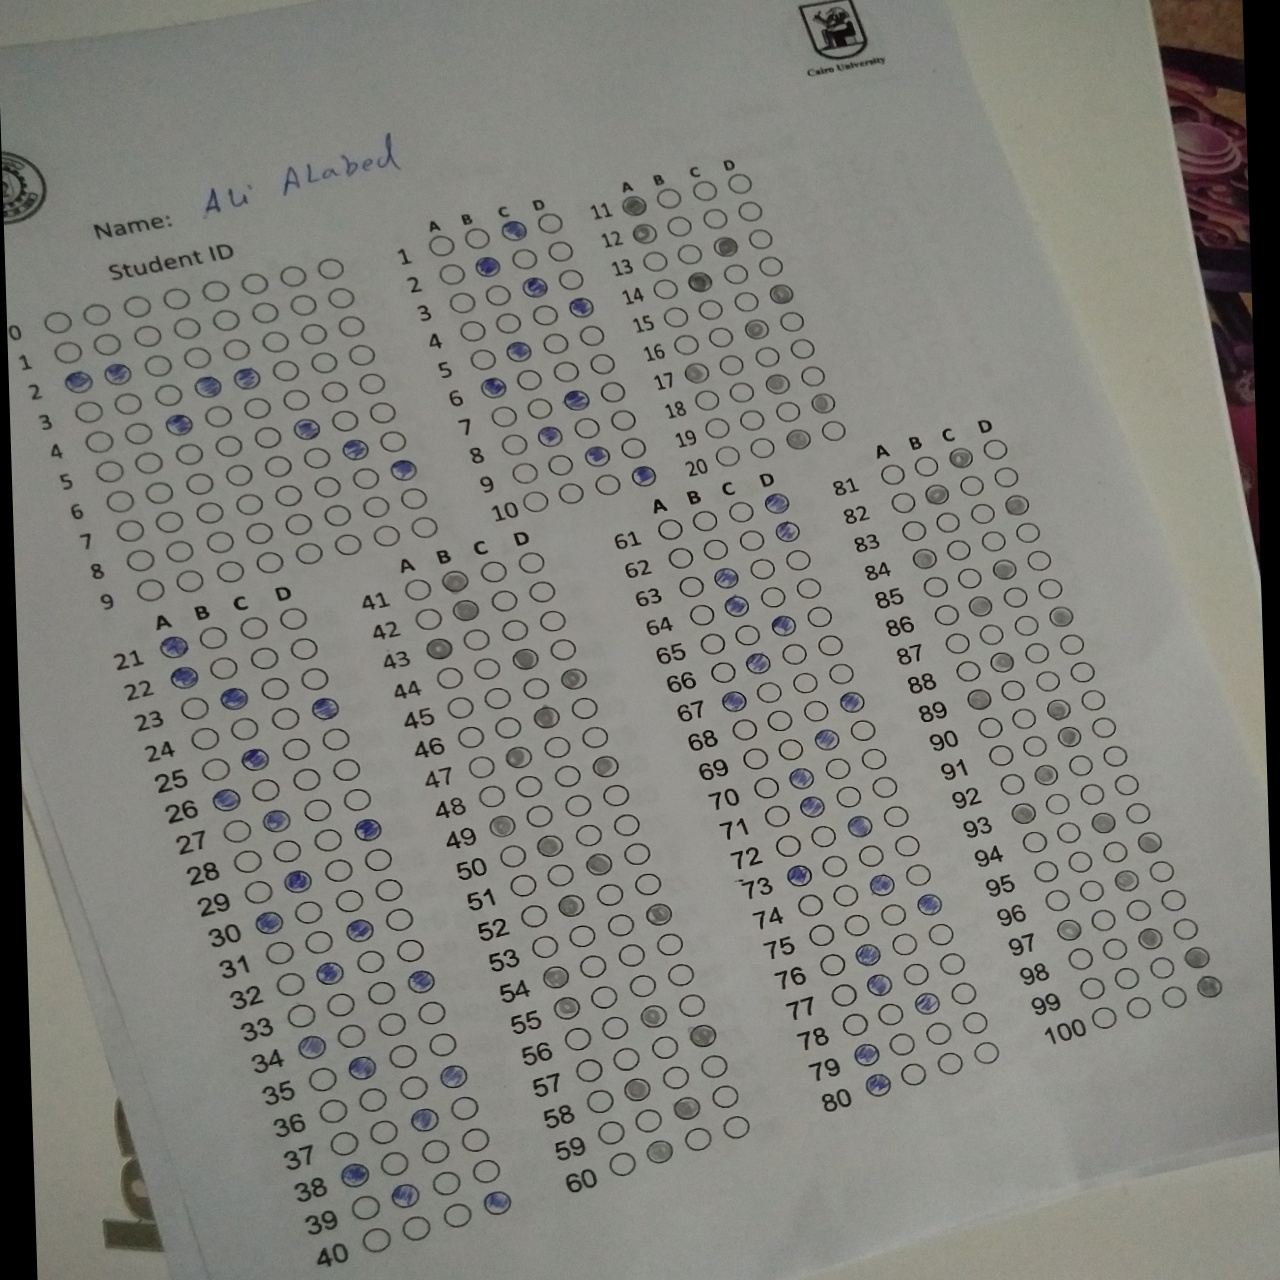not-c: (719, 1111, 754, 1139), (428, 1167, 463, 1196), (355, 1085, 390, 1114), (624, 971, 659, 999), (648, 1033, 683, 1061), (659, 1063, 694, 1091), (697, 1051, 733, 1080), (594, 1117, 628, 1145), (348, 1193, 382, 1221), (366, 1117, 400, 1145), (597, 1012, 631, 1040), (653, 930, 687, 958), (629, 1107, 665, 1133), (470, 1157, 505, 1184), (458, 1125, 493, 1152), (376, 1150, 411, 1177), (326, 1130, 361, 1157), (395, 1074, 430, 1101), (315, 1098, 350, 1125), (305, 1065, 340, 1092), (413, 999, 448, 1026), (333, 1022, 368, 1049), (363, 979, 399, 1006), (322, 990, 358, 1017), (674, 992, 709, 1019), (561, 1024, 595, 1051), (682, 1125, 716, 1152), (602, 1149, 636, 1176), (516, 903, 550, 930), (440, 1201, 474, 1228), (383, 1043, 417, 1070), (374, 1012, 408, 1039), (663, 961, 697, 988), (571, 1057, 605, 1084), (608, 1044, 642, 1071), (583, 1089, 617, 1116), (592, 881, 626, 908), (745, 772, 779, 799), (921, 1020, 955, 1047), (891, 831, 925, 858), (631, 871, 665, 898), (417, 1138, 452, 1164), (424, 1032, 459, 1057), (888, 931, 924, 956), (566, 922, 598, 951), (704, 324, 737, 350), (181, 345, 213, 372), (230, 847, 263, 874), (1088, 1005, 1121, 1032), (706, 658, 738, 685), (399, 1216, 433, 1241), (360, 1227, 394, 1253), (447, 1095, 481, 1121), (508, 872, 542, 898), (760, 804, 794, 830), (806, 823, 840, 849), (856, 842, 890, 867), (792, 892, 826, 918), (805, 921, 839, 947), (839, 912, 873, 938), (813, 952, 847, 978), (826, 981, 860, 1007), (937, 951, 971, 976), (897, 960, 931, 986), (947, 981, 981, 1007), (958, 1010, 992, 1036), (934, 1050, 968, 1076), (968, 1040, 1002, 1065), (542, 860, 576, 886), (614, 942, 648, 968), (728, 716, 762, 742), (238, 270, 270, 297), (660, 304, 692, 331), (647, 275, 679, 302), (444, 290, 476, 316), (212, 433, 244, 459), (151, 508, 183, 535), (571, 821, 602, 847), (542, 733, 573, 760), (1065, 659, 1097, 686), (1034, 576, 1065, 602), (1022, 546, 1054, 573), (941, 536, 973, 563), (990, 462, 1022, 489), (954, 472, 986, 499), (941, 629, 973, 656), (120, 294, 152, 320), (549, 359, 581, 384), (529, 302, 561, 328), (508, 459, 540, 485), (488, 404, 520, 430), (268, 358, 301, 383), (72, 399, 104, 424), (325, 284, 358, 309), (275, 263, 308, 288), (359, 493, 392, 519), (309, 474, 342, 499), (93, 458, 125, 484), (316, 379, 349, 404), (332, 531, 365, 557), (243, 520, 275, 546), (745, 556, 778, 581), (297, 666, 329, 692), (188, 726, 220, 751), (452, 724, 485, 750), (263, 939, 295, 965), (290, 767, 322, 792), (482, 685, 515, 710), (710, 1082, 743, 1108), (832, 784, 865, 810), (873, 1001, 906, 1027), (858, 745, 891, 771), (496, 843, 529, 869), (930, 602, 962, 628), (1019, 733, 1051, 758), (1017, 829, 1050, 855), (1099, 838, 1132, 864), (1122, 897, 1155, 922), (822, 756, 855, 782), (772, 735, 805, 761), (802, 602, 835, 628), (897, 518, 930, 544), (979, 434, 1012, 459), (908, 451, 941, 477), (527, 933, 561, 958), (771, 833, 805, 858), (818, 852, 852, 877), (830, 881, 864, 906), (839, 1012, 873, 1036), (876, 903, 910, 927), (886, 1032, 920, 1056), (903, 862, 937, 886), (879, 803, 913, 828), (867, 775, 901, 799), (738, 745, 772, 770), (576, 954, 610, 979), (91, 331, 123, 356), (159, 285, 191, 311), (40, 309, 72, 335), (673, 241, 704, 267), (735, 199, 767, 225), (539, 331, 571, 356), (750, 343, 782, 369), (587, 350, 619, 376), (775, 309, 806, 335), (465, 346, 497, 372), (670, 332, 702, 358), (491, 309, 523, 335), (730, 288, 762, 314), (695, 297, 727, 322), (553, 481, 585, 506), (607, 407, 639, 433), (497, 433, 529, 458), (737, 407, 769, 433), (745, 434, 777, 459), (816, 417, 847, 443), (726, 379, 757, 404), (692, 387, 723, 413), (356, 370, 388, 396), (297, 320, 328, 346), (210, 307, 241, 333), (253, 550, 285, 576), (135, 577, 166, 602), (122, 547, 154, 573), (103, 489, 135, 515), (329, 407, 361, 433), (321, 502, 353, 527), (272, 482, 304, 508), (263, 452, 294, 478), (434, 665, 465, 690), (700, 536, 731, 561), (689, 508, 721, 533), (515, 550, 546, 576), (478, 558, 510, 584), (320, 726, 352, 751), (247, 645, 279, 670), (198, 625, 230, 651), (513, 772, 545, 798), (285, 1002, 316, 1028), (274, 971, 306, 996), (394, 938, 425, 964), (372, 877, 403, 903), (292, 899, 324, 925), (361, 847, 393, 873), (271, 838, 302, 864), (341, 787, 373, 812), (280, 736, 312, 762), (567, 695, 599, 721), (537, 608, 568, 634), (1076, 878, 1108, 904), (1121, 801, 1152, 826), (1157, 886, 1189, 912), (1169, 917, 1200, 942), (924, 921, 955, 947), (1010, 612, 1042, 638), (952, 565, 983, 591), (1000, 584, 1032, 610), (953, 659, 985, 685), (1056, 631, 1088, 656), (996, 676, 1028, 702), (1007, 706, 1039, 731), (846, 717, 878, 743), (801, 697, 832, 723), (789, 670, 821, 696), (753, 679, 784, 704), (813, 632, 845, 658), (730, 622, 762, 648), (695, 631, 727, 656), (757, 584, 789, 610), (886, 488, 918, 513), (978, 529, 1009, 554), (966, 501, 998, 526), (877, 461, 908, 486), (79, 302, 111, 327), (406, 515, 438, 539), (699, 206, 731, 231), (652, 186, 685, 211), (638, 248, 670, 273), (482, 284, 515, 308), (459, 225, 492, 250), (536, 211, 568, 236), (618, 435, 651, 459), (595, 380, 628, 404), (345, 342, 377, 367), (113, 518, 145, 543), (141, 481, 173, 505), (121, 421, 154, 445), (475, 783, 508, 808), (663, 545, 696, 570), (236, 615, 268, 640), (1040, 791, 1073, 816), (1148, 858, 1180, 883), (1122, 995, 1155, 1020), (781, 547, 813, 572), (931, 510, 964, 535), (456, 318, 486, 343), (545, 452, 576, 478), (771, 399, 802, 424), (301, 797, 332, 823), (974, 714, 1005, 740), (1110, 771, 1141, 797), (1076, 781, 1107, 806), (1099, 937, 1130, 962), (1111, 965, 1142, 990), (1022, 640, 1053, 666), (314, 256, 346, 280), (224, 462, 256, 486), (130, 324, 162, 348), (50, 340, 82, 365), (198, 278, 230, 302), (722, 170, 754, 195), (719, 263, 750, 287), (435, 261, 467, 286), (553, 268, 585, 293), (544, 239, 576, 264), (425, 234, 457, 259), (519, 489, 551, 513), (712, 444, 743, 469), (796, 363, 828, 388), (787, 335, 818, 360), (525, 395, 557, 420), (154, 382, 185, 407), (334, 313, 366, 338), (259, 329, 291, 354), (143, 353, 175, 377), (286, 293, 318, 318), (248, 299, 280, 324), (170, 315, 202, 340), (300, 445, 332, 470), (251, 424, 282, 449), (172, 442, 204, 467), (397, 486, 429, 511), (349, 467, 381, 491), (377, 428, 409, 452), (367, 401, 399, 425), (280, 387, 312, 411), (241, 396, 273, 421), (200, 403, 232, 428), (83, 429, 115, 454), (293, 542, 325, 566), (282, 511, 314, 536), (203, 530, 234, 554), (370, 524, 402, 549), (233, 490, 265, 515), (195, 501, 226, 525), (183, 471, 215, 496), (212, 558, 244, 583), (498, 617, 530, 641), (675, 574, 707, 599), (488, 588, 519, 613), (411, 606, 443, 631), (736, 527, 768, 552), (268, 706, 300, 730), (229, 716, 260, 741), (258, 676, 290, 701), (206, 655, 238, 680), (278, 605, 309, 629), (620, 840, 652, 865), (465, 755, 497, 779), (610, 812, 641, 837), (302, 930, 334, 954), (382, 906, 414, 931), (322, 858, 354, 883), (309, 828, 341, 852), (220, 818, 252, 843), (200, 756, 232, 781), (600, 783, 632, 808), (551, 764, 583, 789), (579, 724, 611, 749), (443, 695, 475, 720), (520, 676, 552, 701), (546, 636, 578, 661), (471, 655, 503, 680), (1041, 887, 1073, 912), (1029, 858, 1061, 883), (1089, 714, 1121, 738), (985, 743, 1016, 768), (1061, 847, 1092, 872), (1099, 743, 1131, 768), (1065, 753, 1097, 777), (1087, 907, 1118, 932), (1063, 946, 1095, 971), (1075, 975, 1107, 1000), (1159, 983, 1191, 1008), (918, 574, 949, 599), (1032, 668, 1063, 693), (764, 707, 796, 731), (776, 641, 808, 666), (794, 576, 825, 600), (686, 602, 717, 627), (1012, 520, 1043, 545), (975, 621, 1007, 646), (754, 254, 787, 278), (561, 794, 594, 817), (689, 178, 720, 203), (715, 353, 745, 377), (515, 367, 545, 392), (572, 415, 602, 440), (173, 568, 204, 593), (655, 517, 686, 542), (402, 577, 433, 601), (288, 635, 319, 660), (334, 888, 365, 913), (492, 715, 523, 740), (898, 1061, 928, 1085), (996, 771, 1027, 796), (1053, 819, 1083, 844), (1148, 955, 1178, 980), (1077, 687, 1108, 712), (825, 660, 856, 685), (574, 324, 606, 347), (663, 213, 695, 237), (508, 247, 539, 271), (591, 474, 622, 497), (701, 416, 733, 440), (111, 392, 143, 415), (524, 579, 556, 602), (163, 539, 195, 563), (131, 452, 163, 476), (459, 627, 491, 651), (726, 501, 757, 524), (179, 695, 211, 719), (523, 804, 554, 828), (354, 949, 386, 973), (241, 880, 273, 904), (329, 757, 361, 781), (248, 778, 280, 802), (745, 227, 776, 251), (222, 338, 252, 361)
taken-c: (338, 1160, 372, 1189), (781, 862, 813, 888), (862, 971, 894, 998), (217, 685, 248, 712), (1193, 973, 1225, 1000), (1182, 944, 1213, 971), (990, 556, 1022, 583), (210, 787, 241, 813), (390, 1182, 422, 1208), (168, 665, 200, 690), (230, 365, 263, 390), (527, 704, 560, 730), (509, 645, 542, 670), (1133, 925, 1166, 951), (1085, 810, 1118, 836), (1006, 799, 1039, 825), (1053, 724, 1085, 750), (964, 686, 996, 712), (1046, 604, 1078, 629), (686, 1022, 719, 1048), (910, 990, 942, 1016), (486, 813, 519, 839), (239, 745, 270, 772), (617, 192, 648, 218), (920, 482, 952, 508), (783, 425, 815, 451), (762, 372, 794, 397), (742, 316, 774, 342), (680, 359, 712, 384), (560, 387, 592, 413), (503, 339, 535, 365), (469, 253, 501, 279), (498, 216, 530, 241), (157, 633, 189, 659), (387, 457, 418, 483), (163, 411, 195, 437), (191, 374, 223, 400), (102, 360, 134, 386), (558, 666, 590, 692), (309, 696, 341, 722), (423, 635, 455, 661), (449, 597, 481, 622), (866, 871, 898, 897), (1051, 917, 1083, 942), (1133, 829, 1165, 855), (843, 813, 874, 839), (810, 726, 842, 751), (1029, 761, 1061, 787), (1042, 696, 1074, 722), (989, 649, 1021, 675), (621, 1076, 653, 1102), (669, 1095, 701, 1121), (642, 1138, 674, 1164), (850, 1041, 881, 1067), (260, 806, 292, 832), (282, 869, 314, 894), (254, 908, 286, 934), (346, 1054, 377, 1080), (409, 1107, 441, 1132), (481, 1190, 512, 1216), (538, 965, 570, 990), (591, 754, 622, 779), (761, 490, 794, 515), (945, 444, 978, 469), (765, 280, 798, 305), (516, 274, 549, 299), (290, 416, 322, 441), (835, 689, 867, 714), (550, 994, 583, 1019), (636, 1003, 669, 1028), (862, 1073, 894, 1097), (350, 817, 383, 842), (583, 851, 615, 876), (628, 463, 659, 489), (770, 519, 801, 545), (438, 1064, 469, 1090), (580, 443, 612, 468), (806, 390, 838, 415), (628, 222, 660, 246), (685, 268, 716, 293), (709, 233, 741, 258), (532, 424, 564, 449), (478, 375, 510, 400), (565, 294, 597, 319), (62, 369, 94, 394), (965, 594, 996, 619), (768, 613, 799, 638), (721, 594, 753, 619), (712, 565, 743, 590), (908, 546, 940, 571), (503, 744, 535, 769), (440, 568, 471, 593), (912, 891, 944, 915), (1109, 867, 1141, 892), (798, 794, 830, 818), (784, 765, 816, 790), (1002, 493, 1034, 518), (851, 942, 883, 967), (342, 918, 374, 942), (406, 969, 437, 994), (294, 1034, 326, 1058), (535, 832, 566, 857), (554, 892, 586, 917), (341, 437, 372, 462), (717, 689, 748, 714), (742, 651, 772, 675), (314, 960, 345, 985), (644, 903, 674, 927)
